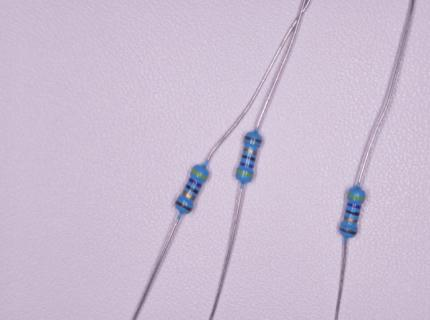Black band: (185, 184, 200, 195), (345, 209, 361, 217), (242, 154, 256, 162)
Brown band: (175, 200, 193, 212), (244, 135, 262, 144), (339, 227, 357, 236)
Gold band: (182, 190, 196, 201), (243, 147, 257, 156), (344, 216, 358, 223)
Violet band: (189, 178, 202, 188), (240, 161, 254, 169), (347, 202, 360, 209)
Yellow band: (191, 169, 207, 181), (347, 193, 365, 201), (237, 170, 253, 178)
